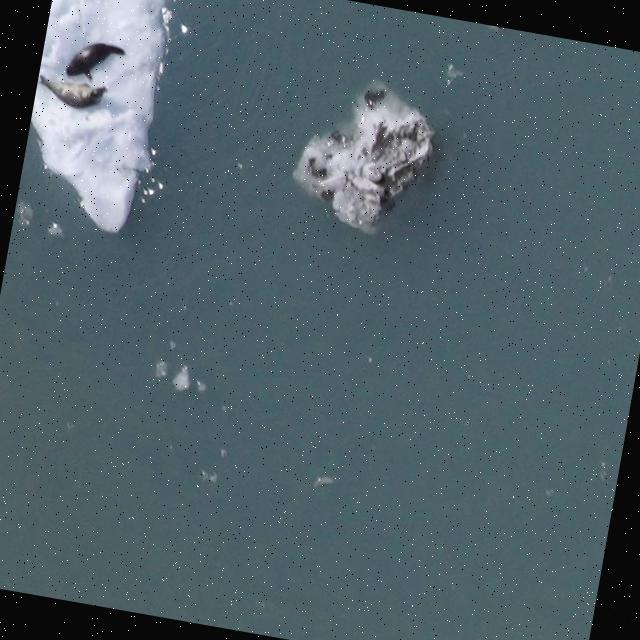seal: (57, 29, 127, 92), (35, 74, 106, 112)
